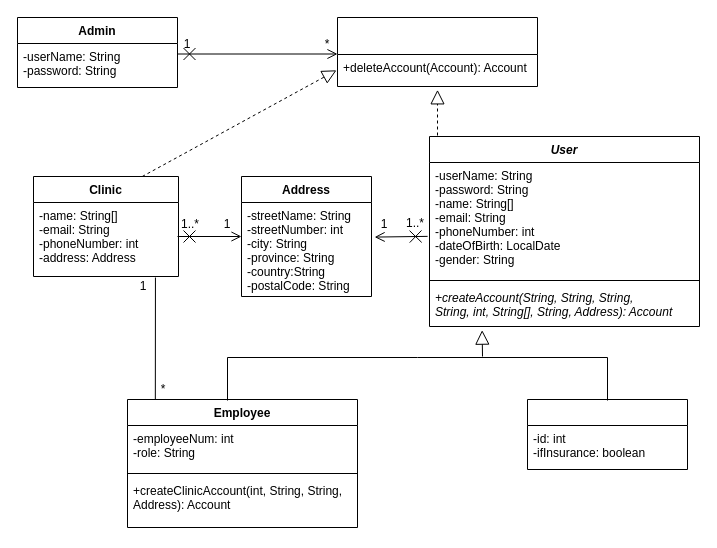
Image size: 717x548. Some labels were removed from this diagram. The box of each missing label's shape, as (x1, y1, x2, y2) in pixels:
Patient: (526, 398, 688, 470)
«interface» Account: (336, 16, 538, 86)
